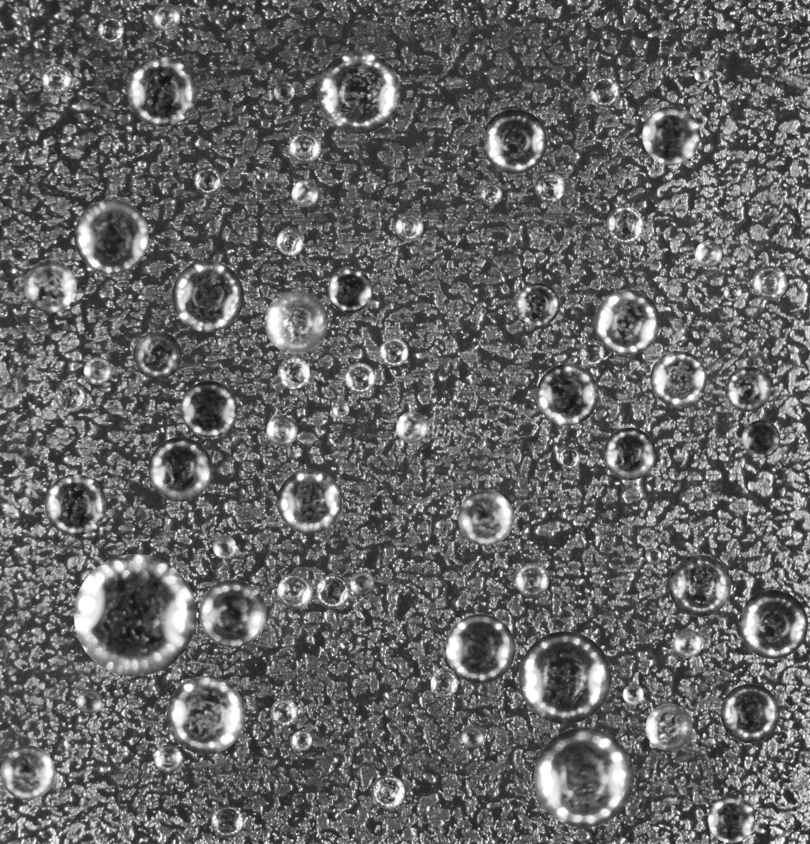Bubble: (73, 554, 196, 676), (534, 727, 634, 827), (518, 631, 611, 724), (317, 50, 400, 133), (166, 676, 245, 754), (74, 199, 148, 273), (172, 260, 243, 332), (127, 57, 196, 126), (446, 614, 515, 683), (739, 590, 808, 659), (199, 580, 266, 647), (594, 289, 660, 354), (482, 109, 547, 173), (277, 469, 341, 534), (148, 437, 212, 501), (264, 290, 328, 354), (669, 554, 731, 616), (536, 363, 598, 425), (44, 474, 106, 535), (720, 683, 779, 743), (642, 106, 700, 164), (650, 350, 707, 407), (180, 380, 237, 437), (458, 490, 513, 545), (0, 745, 54, 800), (603, 427, 656, 480), (23, 260, 76, 312), (133, 330, 181, 379), (645, 703, 692, 750), (708, 796, 755, 843), (725, 366, 771, 411), (328, 268, 372, 312), (516, 282, 559, 326), (742, 420, 780, 457), (606, 206, 643, 243), (752, 265, 787, 300), (277, 573, 312, 608), (315, 574, 349, 608), (515, 563, 549, 596), (277, 356, 310, 389), (371, 775, 404, 808), (211, 805, 243, 838), (54, 380, 86, 412), (396, 411, 427, 443), (266, 414, 297, 446), (289, 131, 320, 163), (344, 362, 375, 393), (589, 76, 619, 107), (534, 172, 564, 202), (41, 64, 71, 94), (673, 629, 702, 658), (379, 337, 408, 366), (154, 744, 182, 773), (395, 213, 423, 241), (152, 3, 180, 31), (276, 227, 304, 255), (83, 356, 111, 384), (194, 166, 221, 194), (430, 670, 457, 697), (270, 699, 297, 726), (695, 240, 722, 267), (291, 180, 318, 207), (97, 17, 124, 43), (77, 688, 102, 713), (350, 571, 374, 596), (580, 340, 604, 364), (212, 535, 236, 558), (461, 725, 484, 748), (558, 447, 580, 468), (481, 183, 502, 204), (622, 684, 643, 705), (273, 81, 294, 102), (291, 730, 312, 750), (723, 283, 741, 301), (332, 401, 349, 418), (645, 548, 661, 564), (694, 66, 709, 82), (256, 169, 268, 181), (598, 201, 609, 213), (660, 456, 671, 467)
